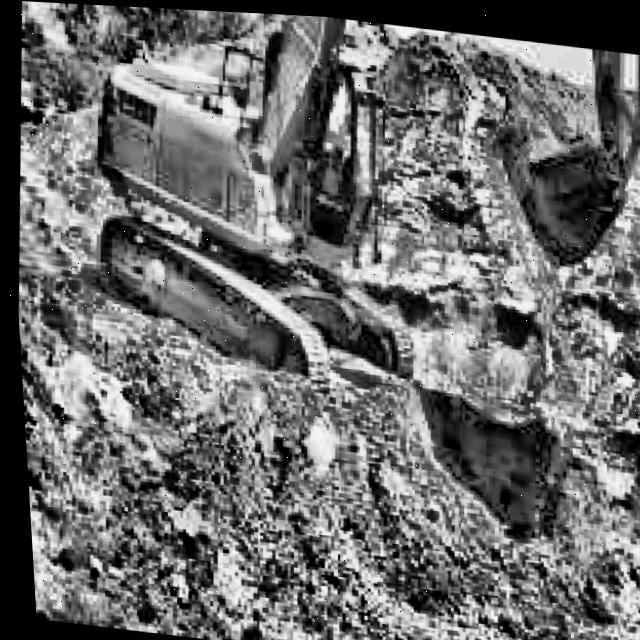excavator: (69, 3, 640, 438)
